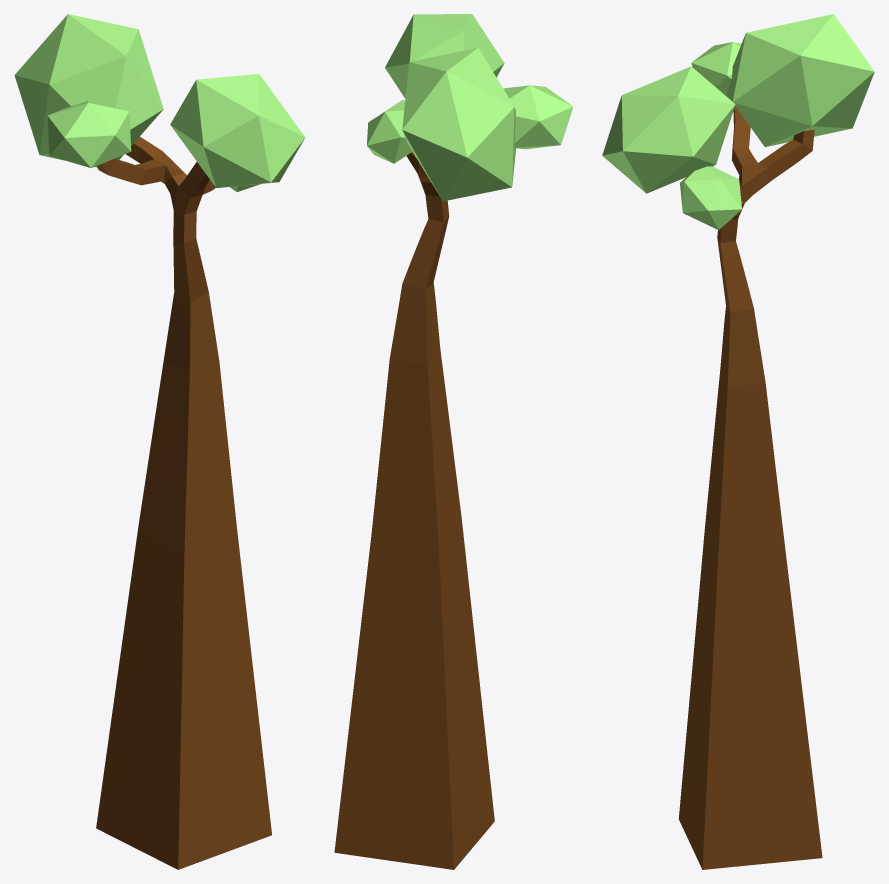
The model's file is Arvore_Tipo_1.fbx.
The picture shows the model from 3 angles, left to right: view 1: azimuth 30°, elevation 25°; view 2: azimuth 150°, elevation 25°; view 3: azimuth 270°, elevation 25°; orthographic projection. The views are drawn at different scales.
Parts seen in each view (by area): view 1: Cube.001, Icosphere.001, Icosphere, Icosphere.002; view 2: Cube.001, Icosphere.001, Icosphere, Icosphere.002, Icosphere.003; view 3: Cube.001, Icosphere.001, Icosphere, Icosphere.003, Icosphere.002.
Part boxes in pixels (bbox=[...]): Cube.001: bbox=[96, 137, 271, 869]; Icosphere.001: bbox=[14, 14, 163, 167]; Icosphere: bbox=[170, 74, 305, 187]; Icosphere.002: bbox=[47, 101, 131, 167]; Cube.001: bbox=[334, 152, 494, 869]; Icosphere.001: bbox=[402, 48, 515, 201]; Icosphere: bbox=[385, 14, 504, 98]; Icosphere.002: bbox=[503, 85, 573, 149]; Icosphere.003: bbox=[367, 100, 412, 163]; Cube.001: bbox=[678, 106, 822, 869]; Icosphere.001: bbox=[726, 14, 874, 147]; Icosphere: bbox=[602, 66, 735, 193]; Icosphere.003: bbox=[680, 166, 741, 230]; Icosphere.002: bbox=[691, 42, 741, 100].
Size of the model in its own units: 1119 by 4157 by 1300.
